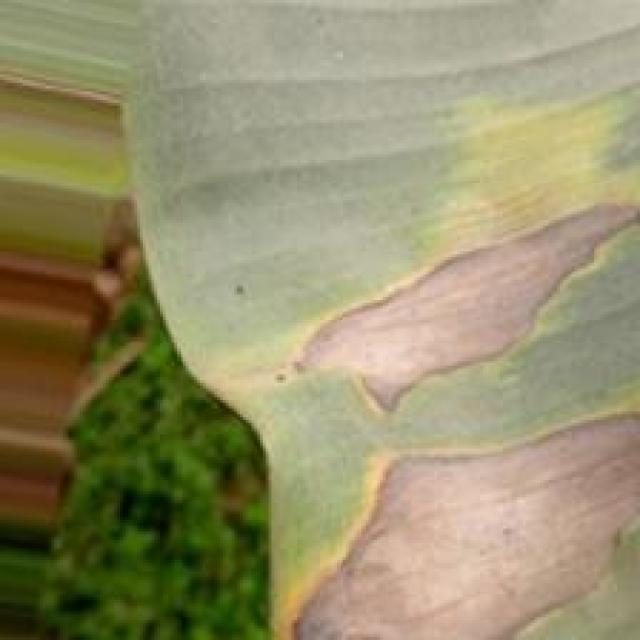Bacterial_spot: (280, 385, 640, 640), (241, 187, 640, 404)
